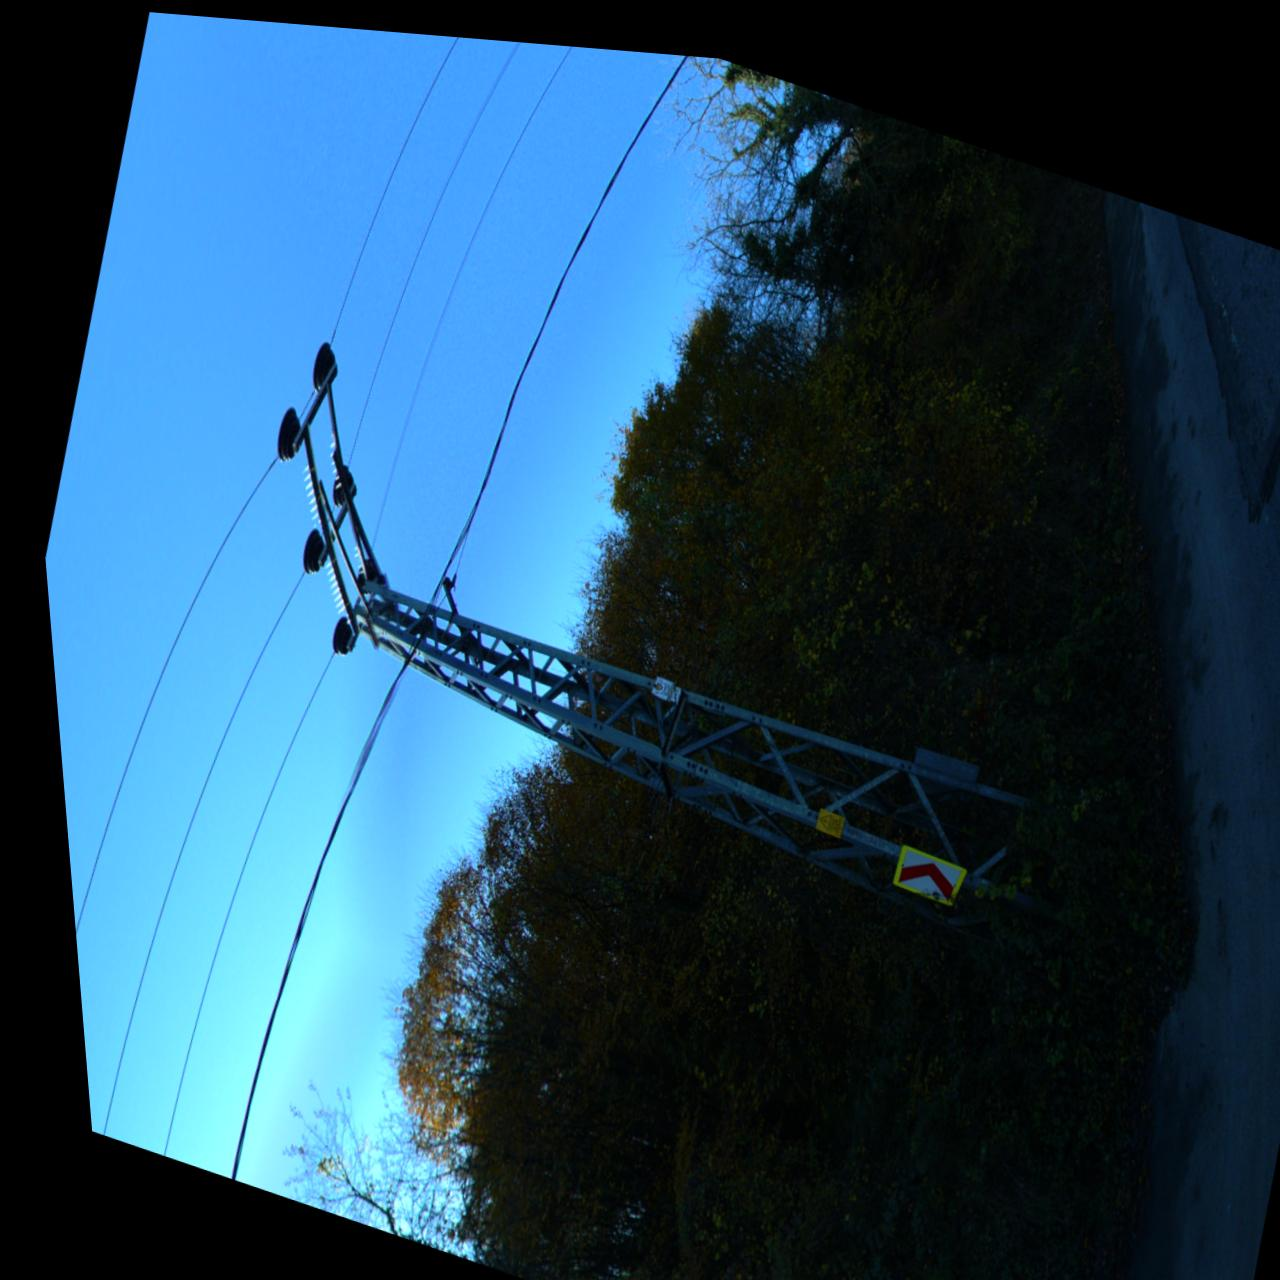Utility Pole Information Plate: (639, 660, 673, 693), (801, 792, 832, 824)
